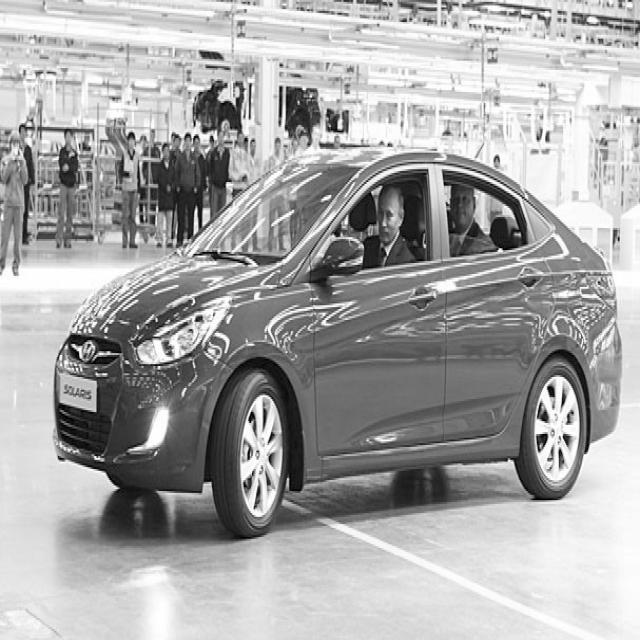car: (52, 145, 622, 537)
